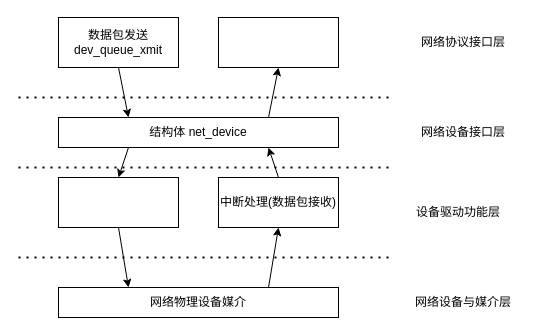
The diagram is 535 pixels wide and 335 high, and some of its shapes have lost their labels. The shapes that lost their labels are listed below. From the top down, each one's centre as x and y in pixels, then its label:
(x=278, y=42): 数据包接收 netif_rx
(x=118, y=202): 数据包发送 hard_start_xmit
